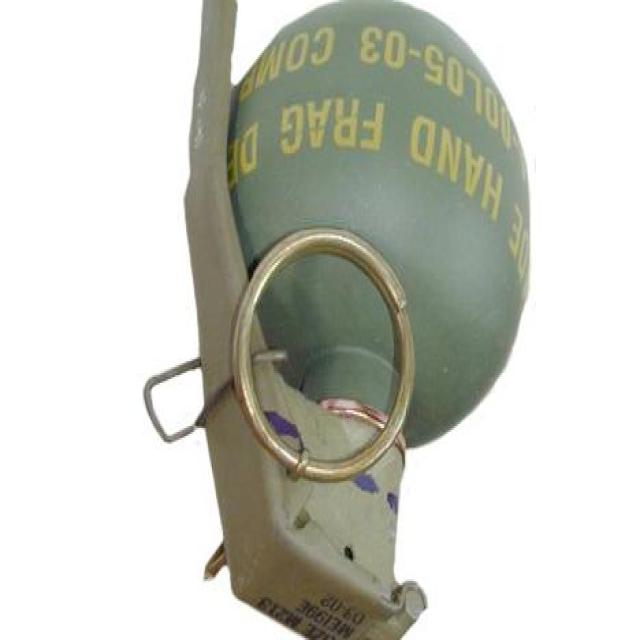grenade: (143, 3, 532, 640)
